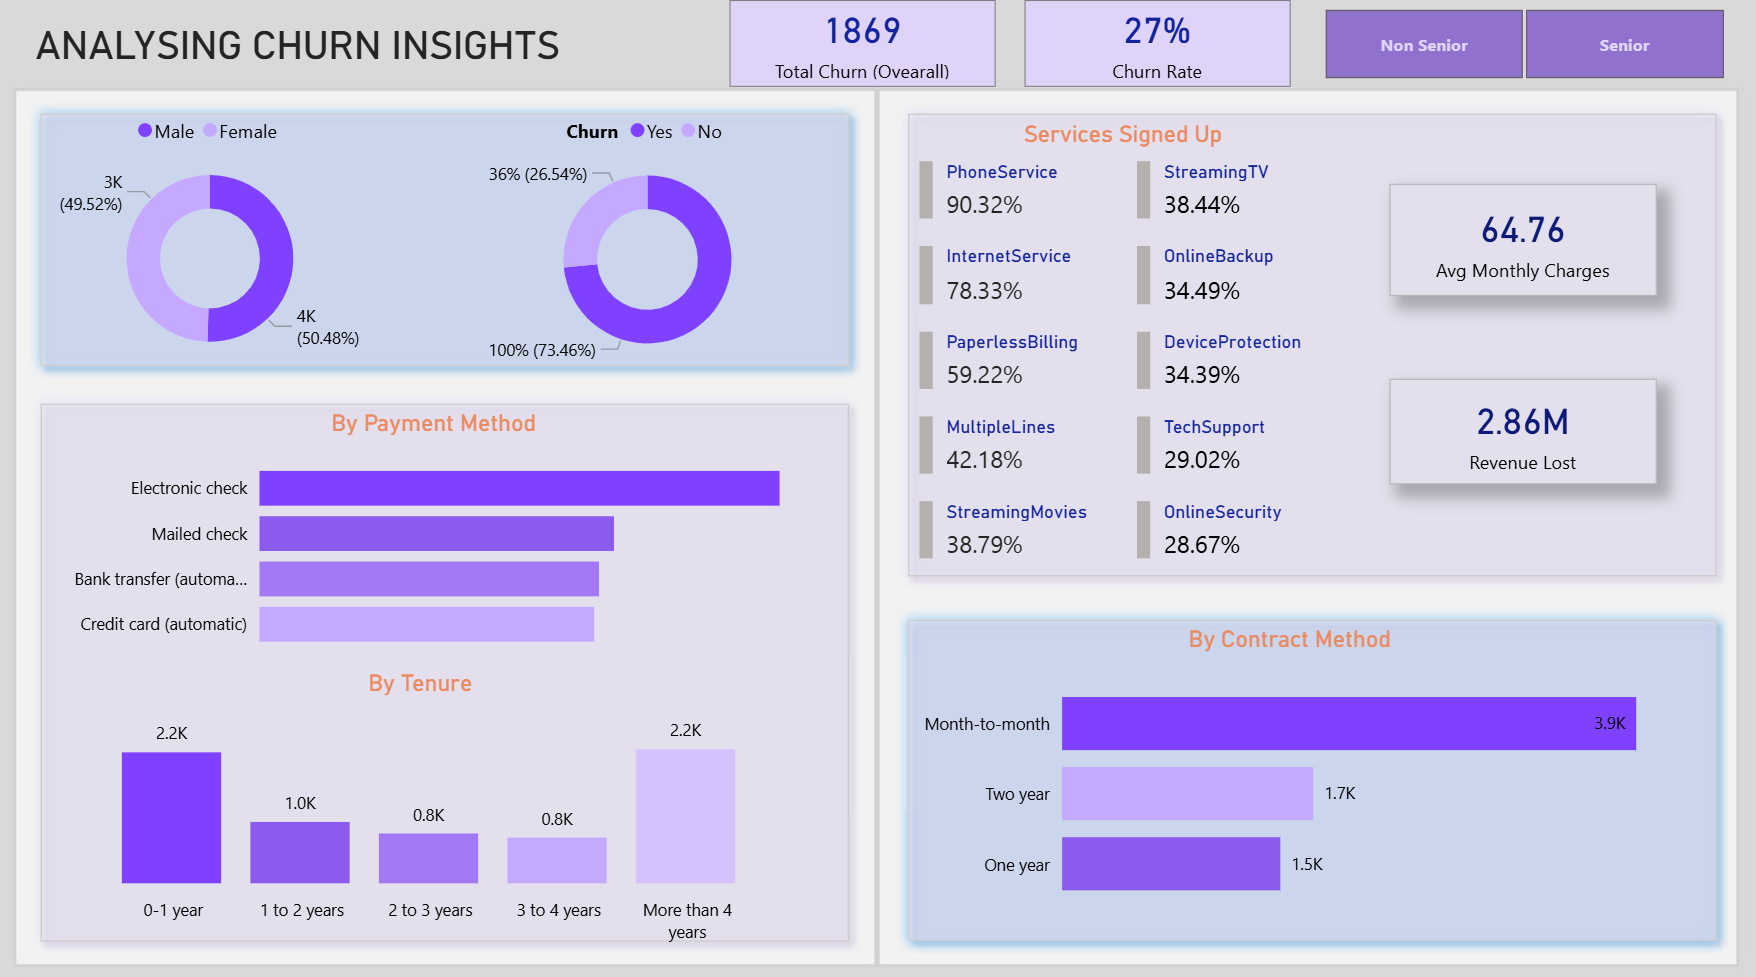

What the dashboard file says about the page in this screenshot:
{"tool":"powerbi","page":{"name":"Page 1","canvas":[1280,720],"ordinal":0},"visuals":[{"type":"shape","box":[653.4,74.1,606,354.6],"z":0},{"type":"shape","box":[653.4,442,606,251.4],"z":1000},{"type":"shape","box":[23.1,284.2,606,409.3],"z":2000},{"type":"card","fields":{"Values":["Telco.Total Churn"]},"box":[533.1,0,193.5,62.8],"z":3000},{"type":"shape","box":[23.1,74.1,606,201.6],"z":4000},{"type":"donutChart","fields":{"Category":["Telco.gender"],"Y":["Telco.Total Customers"]},"box":[0,74.7,310.1,197.4],"z":5000},{"type":"clusteredColumnChart","title":"By Tenure","fields":{"Category":["Telco.Tenure Band"],"Y":["Telco.Total Customers"]},"box":[33.8,486.3,548.4,207.2],"z":6000},{"type":"barChart","title":"By Contract Method","fields":{"Category":["Telco.Contract"],"Y":["Telco.Total Customers"]},"box":[662.1,454.4,556.6,220.7],"z":7000},{"type":"barChart","title":"By Payment Method","fields":{"Category":["Telco.PaymentMethod"],"Y":["Telco.Total Customers"]},"box":[39.5,297.4,556.8,188.9],"z":8000},{"type":"multiRowCard","fields":{"Values":["Telco.Service %","Service Map.Service"]},"box":[671,117,139.6,336.9],"z":9000},{"type":"multiRowCard","fields":{"Values":["Telco.Service %","Service Map.Service"]},"box":[828.9,117,167.8,335.5],"z":10000},{"type":"card","fields":{"Values":["Telco.Churn Rate"]},"box":[746.9,0,193.5,62.8],"z":11000},{"type":"card","fields":{"Values":["Telco.Avg Monthly Charges"]},"box":[1012.8,133.6,194.3,81.4],"z":12000},{"type":"card","fields":{"Values":["Telco.Revenue Lost"]},"box":[1012.8,275.7,194.3,76.5],"z":13000},{"type":"textbox","box":[22.9,10.9,410.2,51.9],"z":14000},{"type":"slicer","fields":{"Values":["Telco.Senior Label"]},"box":[940.3,0,339.7,63.4],"z":15000},{"type":"donutChart","fields":{"Category":["Telco.Churn"],"Y":["Telco.Churn Rate"]},"box":[318.6,74.7,310.1,198.8],"z":16000},{"type":"textbox","box":[741.5,83.2,300.3,33.8],"z":16001}]}

Visuals, with their boxes in screenshot pixels (x1, y1, x2, y2), scaled from the page's 1280x720 canvas onto the 1756x977 screenshot:
shape: 896/101/1728/582
shape: 896/600/1728/941
shape: 32/386/863/941
card - Telco.Total Churn: 731/0/997/85
shape: 32/101/863/374
donutChart - Telco.gender x Telco.Total Customers: 0/101/425/369
"By Tenure" clusteredColumnChart: 46/660/799/941
"By Contract Method" barChart: 908/617/1672/916
"By Payment Method" barChart: 54/404/818/660
multiRowCard - Telco.Service % x Service Map.Service: 921/159/1112/616
multiRowCard - Telco.Service % x Service Map.Service: 1137/159/1367/614
card - Telco.Churn Rate: 1025/0/1290/85
card - Telco.Avg Monthly Charges: 1389/181/1656/292
card - Telco.Revenue Lost: 1389/374/1656/478
textbox: 31/15/594/85
slicer - Telco.Senior Label: 1290/0/1755/86
donutChart - Telco.Churn x Telco.Churn Rate: 437/101/862/371
textbox: 1017/113/1429/159
